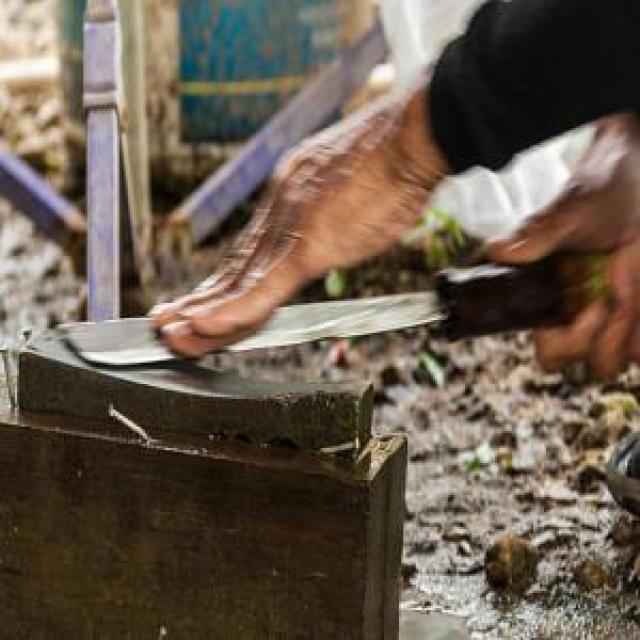knife: (56, 239, 610, 378)
